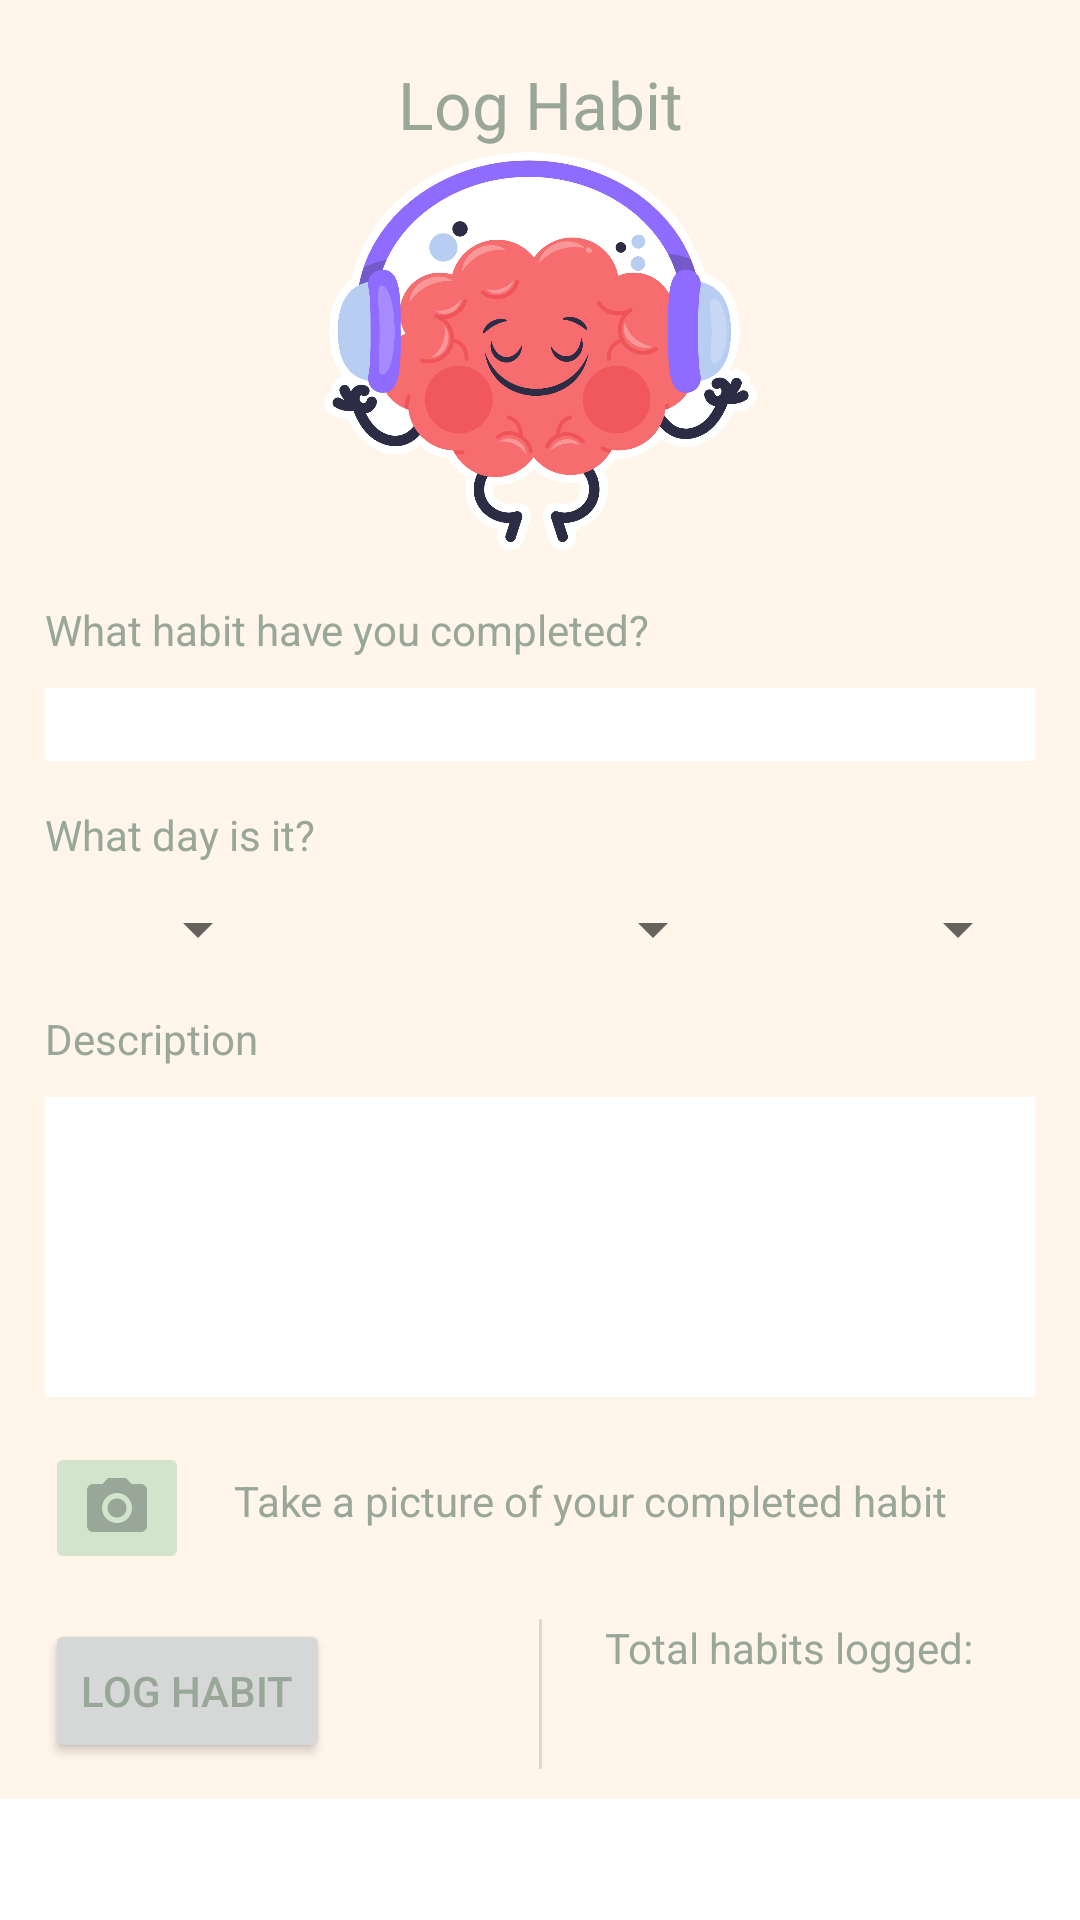

Icon click points for this 1080 × 1920 phone screenshot, format (x,y):
photo camera: (117,1508)
